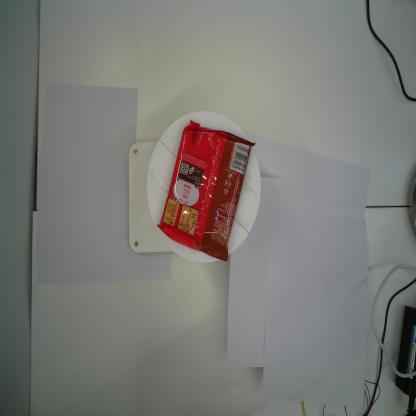Dessert: (156, 119, 256, 263)
